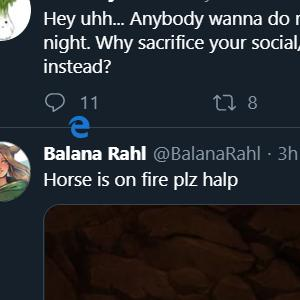edge: (68, 116, 89, 139)
